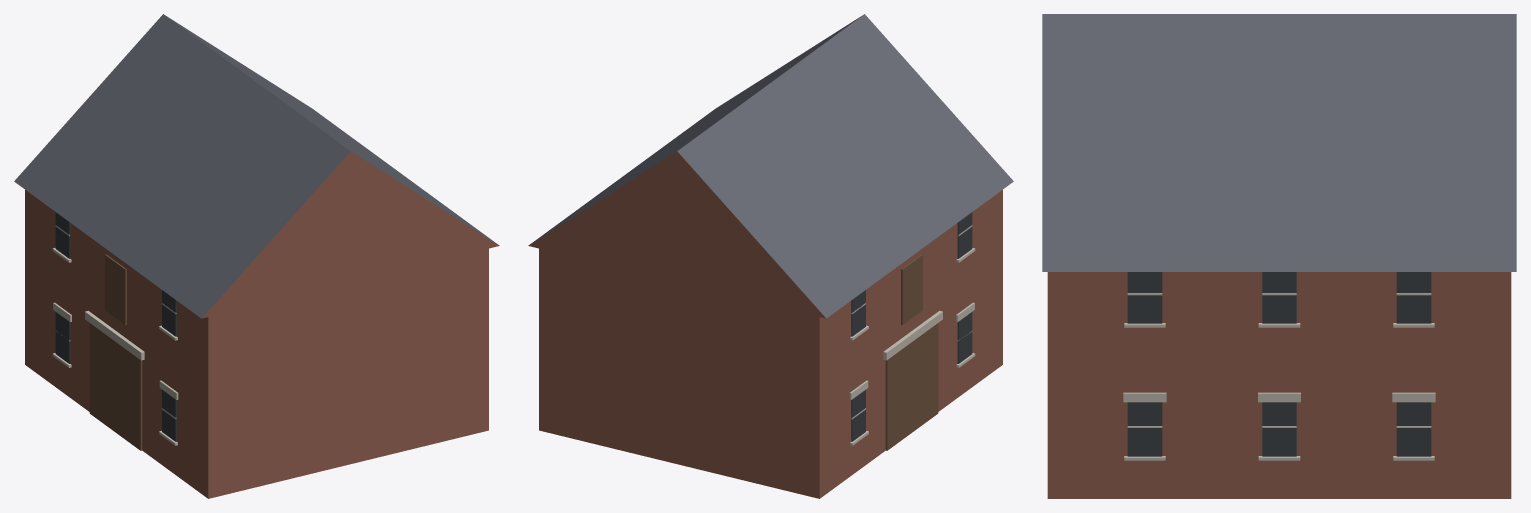
File: house_2000_calumet_coach_house__draft_1904.glb
The picture shows the model from 3 angles, left to right: view 1: azimuth 30°, elevation 25°; view 2: azimuth 150°, elevation 25°; view 3: azimuth 270°, elevation 25°; orthographic projection. The views are drawn at different scales.
Visible parts, largest first — view 1: house_2000_calumet_coach_house__draft_1904; view 2: house_2000_calumet_coach_house__draft_1904; view 3: house_2000_calumet_coach_house__draft_1904.
Part boxes in pixels (left/top/right/bottom): house_2000_calumet_coach_house__draft_1904: left=14, top=14, right=499, bottom=498; house_2000_calumet_coach_house__draft_1904: left=528, top=14, right=1013, bottom=498; house_2000_calumet_coach_house__draft_1904: left=1042, top=14, right=1516, bottom=498.
Size of the model in its own units: 10.1 by 10.19 by 10.99.
